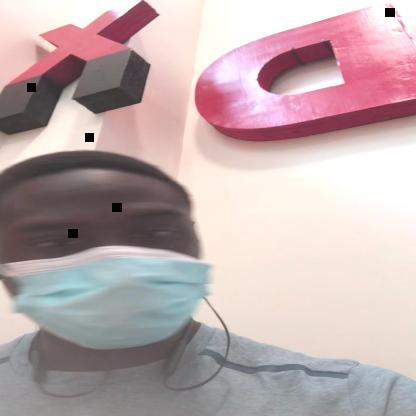mask: (0, 182, 213, 350)
